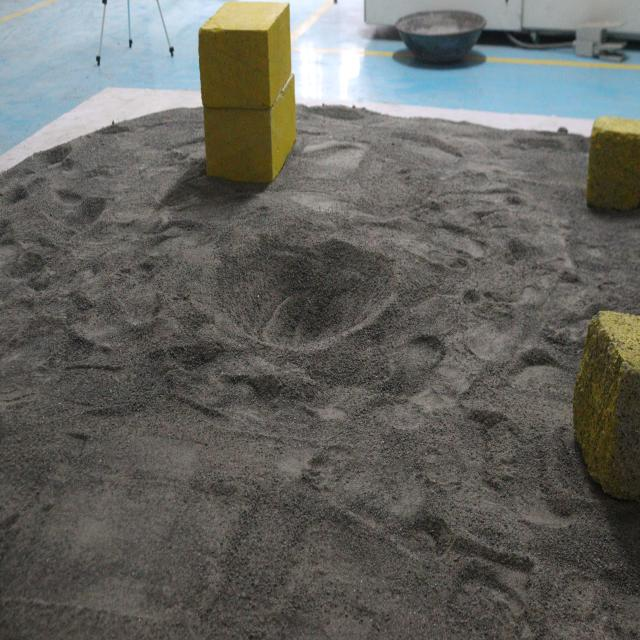box: (194, 7, 298, 198), (572, 312, 640, 499), (582, 114, 640, 225)
crater: (198, 216, 402, 358)
